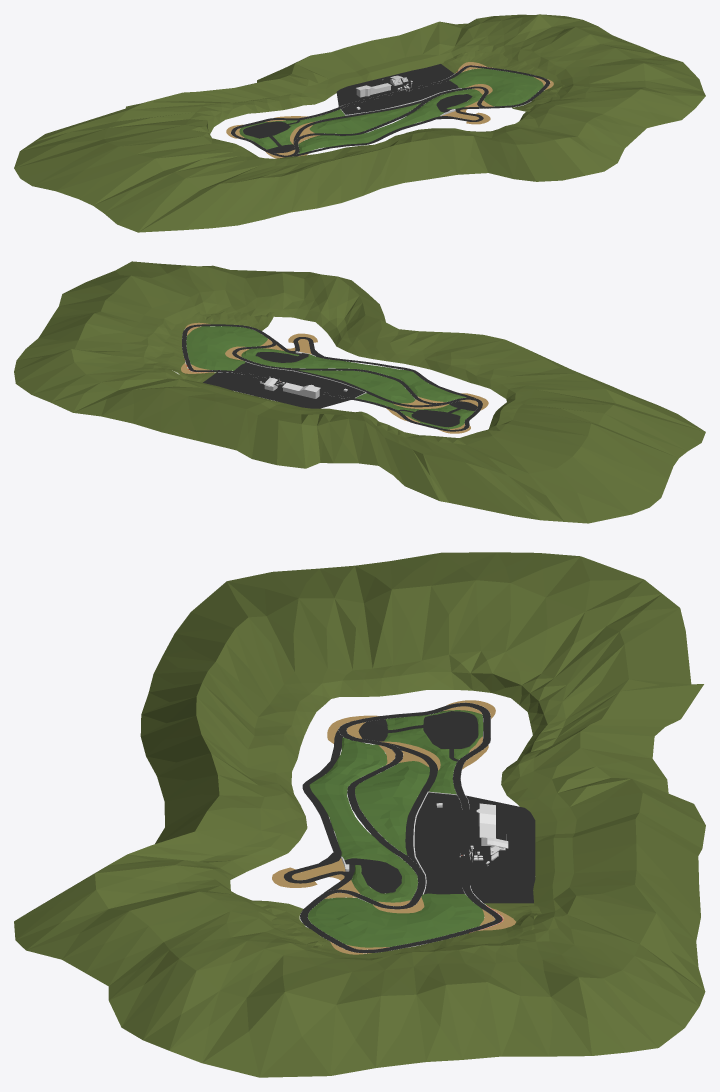
The model's file is lowpoly_track_1_test_5.glb.
3 views of the same model, one above another, from view 1: azimuth 30°, elevation 25°; view 2: azimuth 150°, elevation 25°; view 3: azimuth 270°, elevation 25° (orthographic). The views are drawn at different scales.
Visible parts, largest first — view 1: Plane.018, Sideroad, Sideroad.024, Sideroad.029, Sideroad.030, Kick.001, Sideroad.025, Kick.002, Sideroad.026, Sideroad.028, Sideroad.027, Sideroad.001; view 2: Plane.018, Sideroad, Sideroad.024, Sideroad.029, Sideroad.030, Kick.001, Sideroad.025, Kick.002, Sideroad.026, Sideroad.028, Sideroad.001; view 3: Plane.018, Sideroad, Sideroad.024, Sideroad.029, Kick.001, Kick.002, Sideroad.030, Sideroad.025, Sideroad.026, Sideroad.028, Sideroad.001, Sideroad.027.
Part boxes in pixels (left/top/right/bottom): Plane.018: left=14, top=14, right=705, bottom=232; Sideroad: left=231, top=65, right=549, bottom=157; Sideroad.024: left=449, top=68, right=543, bottom=106; Sideroad.029: left=298, top=89, right=482, bottom=153; Sideroad.030: left=441, top=50, right=565, bottom=111; Kick.001: left=336, top=64, right=454, bottom=106; Sideroad.025: left=309, top=103, right=420, bottom=133; Kick.002: left=341, top=80, right=459, bottom=114; Sideroad.026: left=243, top=121, right=290, bottom=138; Sideroad.028: left=272, top=109, right=345, bottom=145; Sideroad.027: left=239, top=120, right=297, bottom=149; Sideroad.001: left=436, top=94, right=472, bottom=112; Plane.018: left=14, top=261, right=705, bottom=523; Sideroad: left=182, top=324, right=482, bottom=431; Sideroad.024: left=186, top=326, right=267, bottom=370; Sideroad.029: left=241, top=348, right=466, bottom=401; Sideroad.030: left=155, top=311, right=275, bottom=382; Kick.001: left=203, top=372, right=351, bottom=408; Sideroad.025: left=298, top=370, right=415, bottom=403; Kick.002: left=234, top=362, right=364, bottom=398; Sideroad.026: left=411, top=410, right=460, bottom=427; Sideroad.028: left=355, top=393, right=457, bottom=412; Sideroad.001: left=255, top=352, right=308, bottom=362; Plane.018: left=14, top=552, right=705, bottom=1077; Sideroad: left=284, top=702, right=502, bottom=953; Sideroad.024: left=308, top=893, right=484, bottom=947; Sideroad.029: left=309, top=737, right=417, bottom=902; Kick.001: left=466, top=795, right=535, bottom=903; Kick.002: left=414, top=792, right=464, bottom=894; Sideroad.030: left=249, top=900, right=542, bottom=958; Sideroad.025: left=355, top=761, right=429, bottom=855; Sideroad.026: left=423, top=711, right=478, bottom=748; Sideroad.028: left=382, top=728, right=456, bottom=794; Sideroad.001: left=344, top=858, right=401, bottom=893; Sideroad.027: left=385, top=710, right=483, bottom=759.
Size of the model in its own units: 2088 by 114 by 1127.
